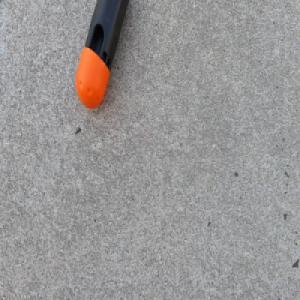PlasticPart: (75, 0, 130, 110)
